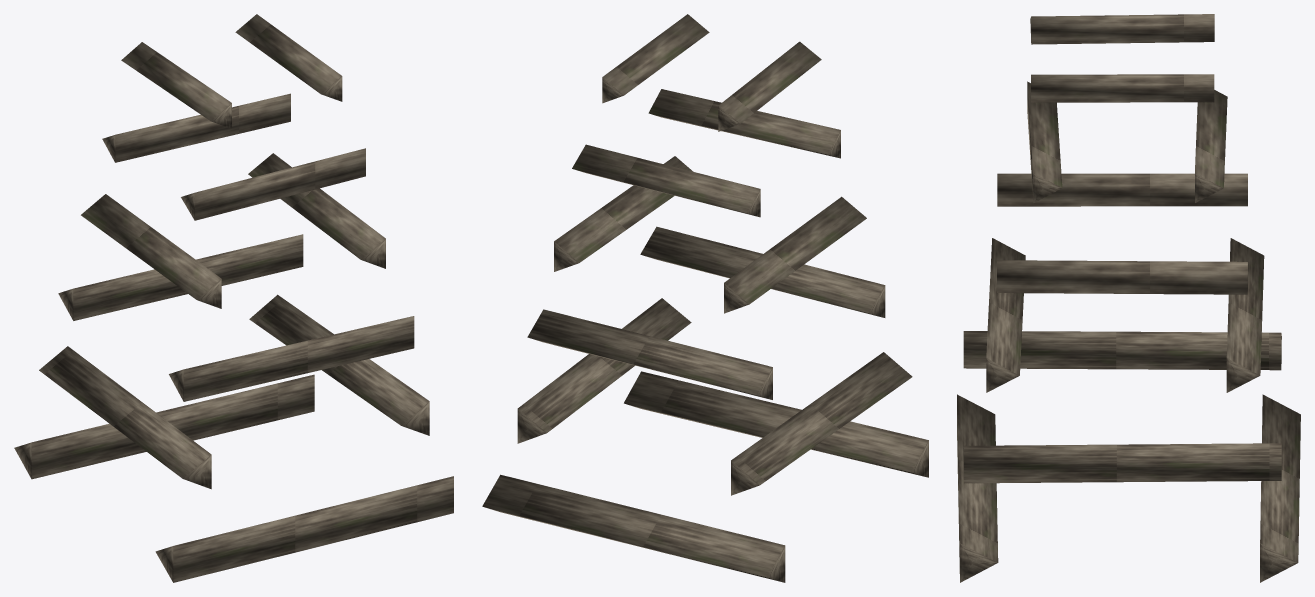
The model's file is Bonfire_Stack_1_LOD2.gltf.
The picture shows the model from 3 angles, left to right: view 1: azimuth 30°, elevation 25°; view 2: azimuth 150°, elevation 25°; view 3: azimuth 270°, elevation 25°; orthographic projection. The views are drawn at different scales.
Visible parts, largest first — view 1: Bonfire_Stack_1_LOD2; view 2: Bonfire_Stack_1_LOD2; view 3: Bonfire_Stack_1_LOD2.
Part boxes in pixels (x1,y1,x2,y2): Bonfire_Stack_1_LOD2: [14, 14, 453, 582]; Bonfire_Stack_1_LOD2: [482, 14, 928, 582]; Bonfire_Stack_1_LOD2: [957, 14, 1300, 582].
Bounding box in the file's own units: 2.3 × 3.37 × 2.25.
1 material, 1 textured.
